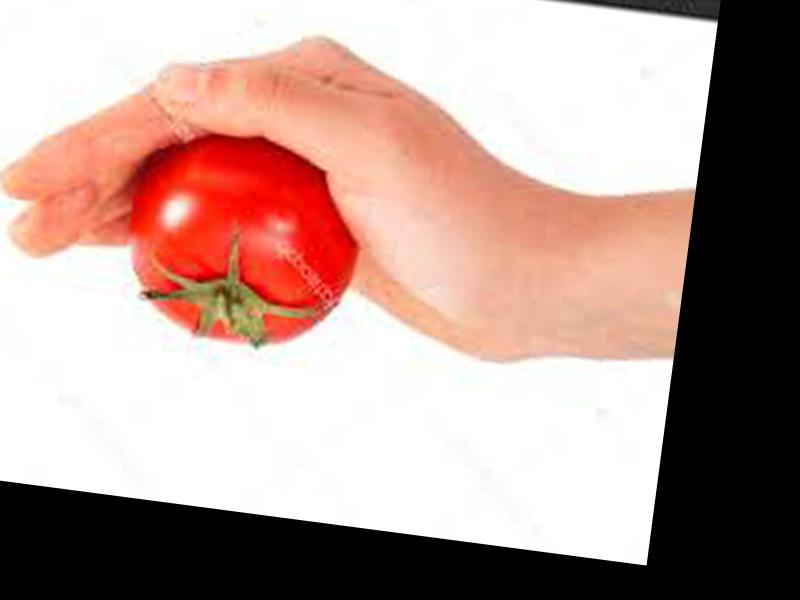Tomato: (123, 127, 372, 355)
